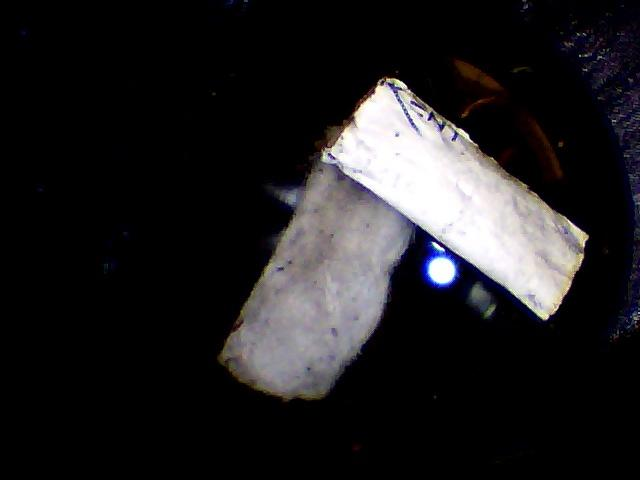megot: (312, 75, 606, 320), (195, 146, 430, 421)
